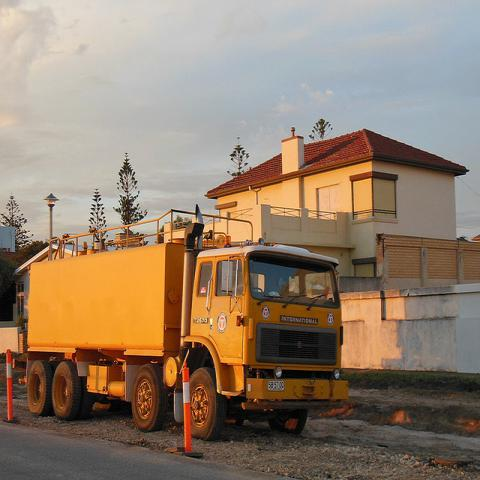truck: (23, 213, 349, 441)
